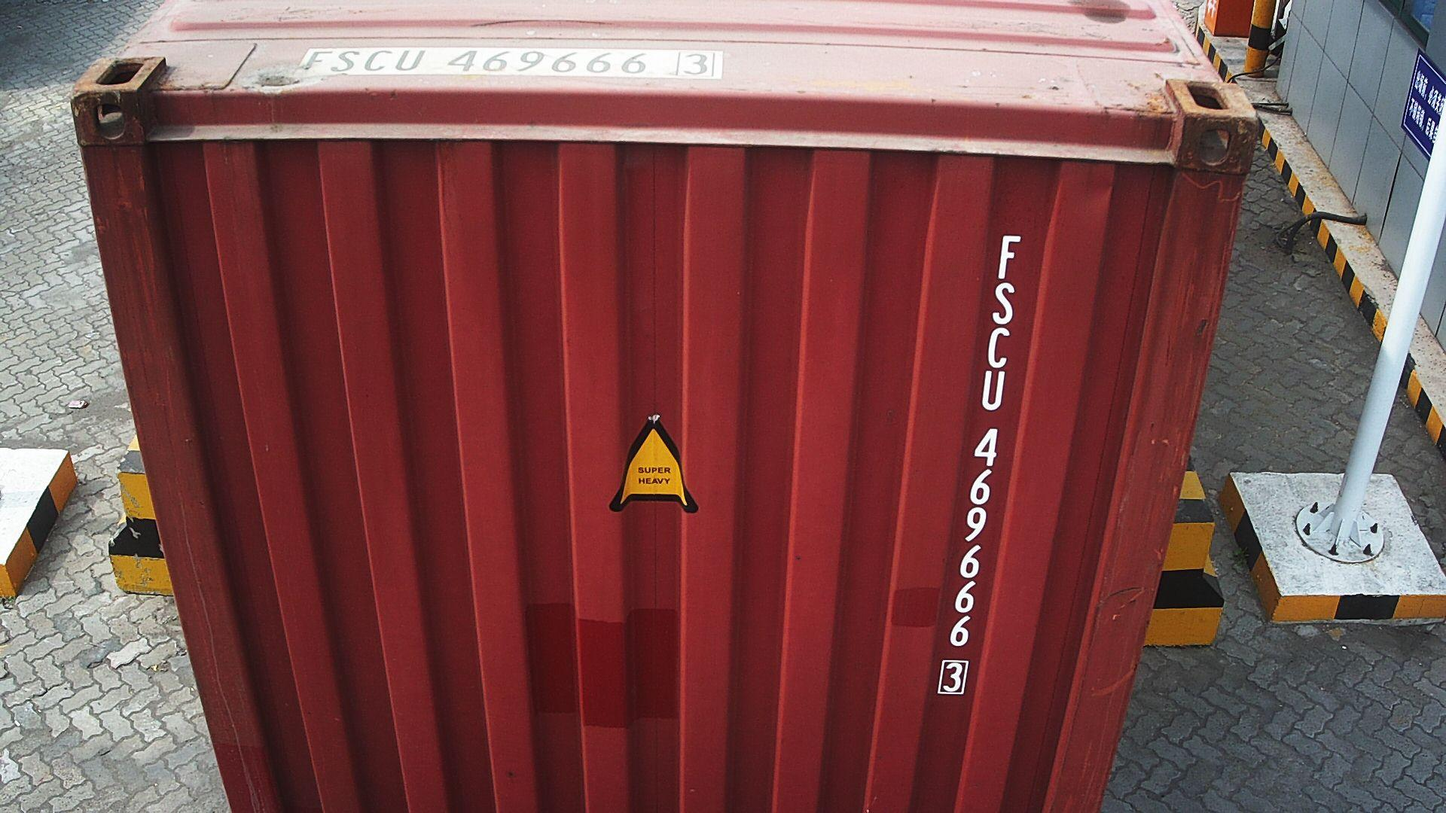container-numbers: (931, 230, 1028, 702), (305, 44, 727, 83)
